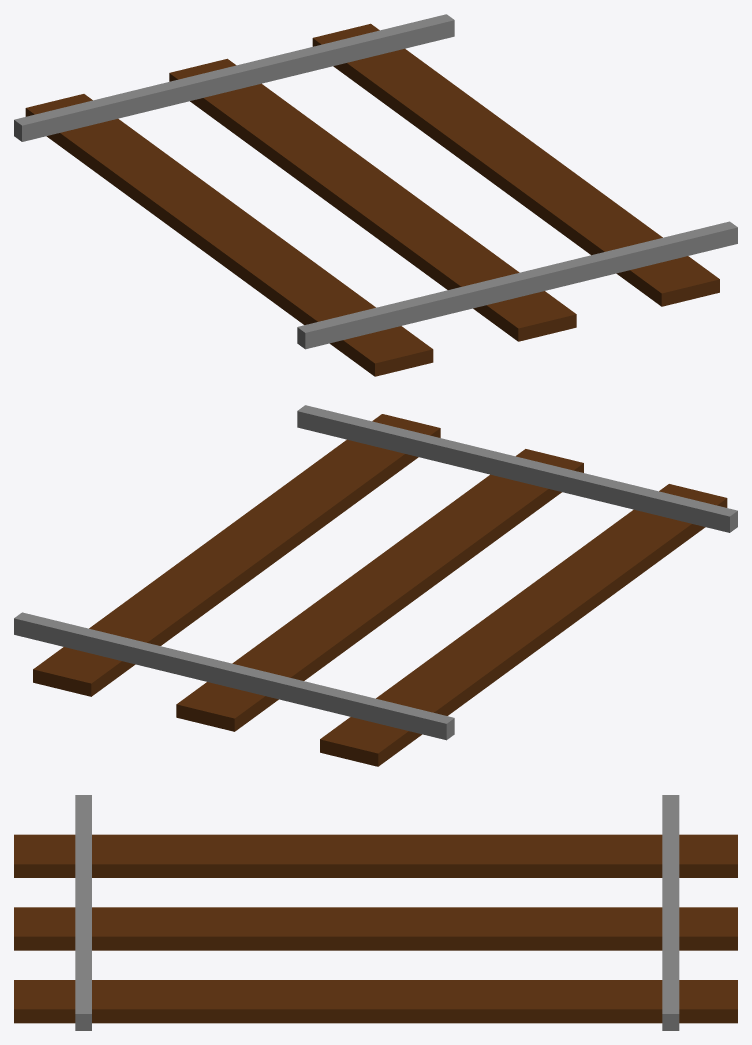
The model's file is Track.fbx.
3 renders of one model, top to bottom at view 1: azimuth 30°, elevation 25°; view 2: azimuth 150°, elevation 25°; view 3: azimuth 270°, elevation 25°, orthographic. The views are drawn at different scales.
Visible parts, largest first — view 1: Track; view 2: Track; view 3: Track.
Part boxes in pixels (x1,y1,x2,y2): Track: (14,14,737,376); Track: (14,405,737,766); Track: (14,795,737,1030).
Size of the model in its own units: 5.43 by 0.3843 by 7.59.
